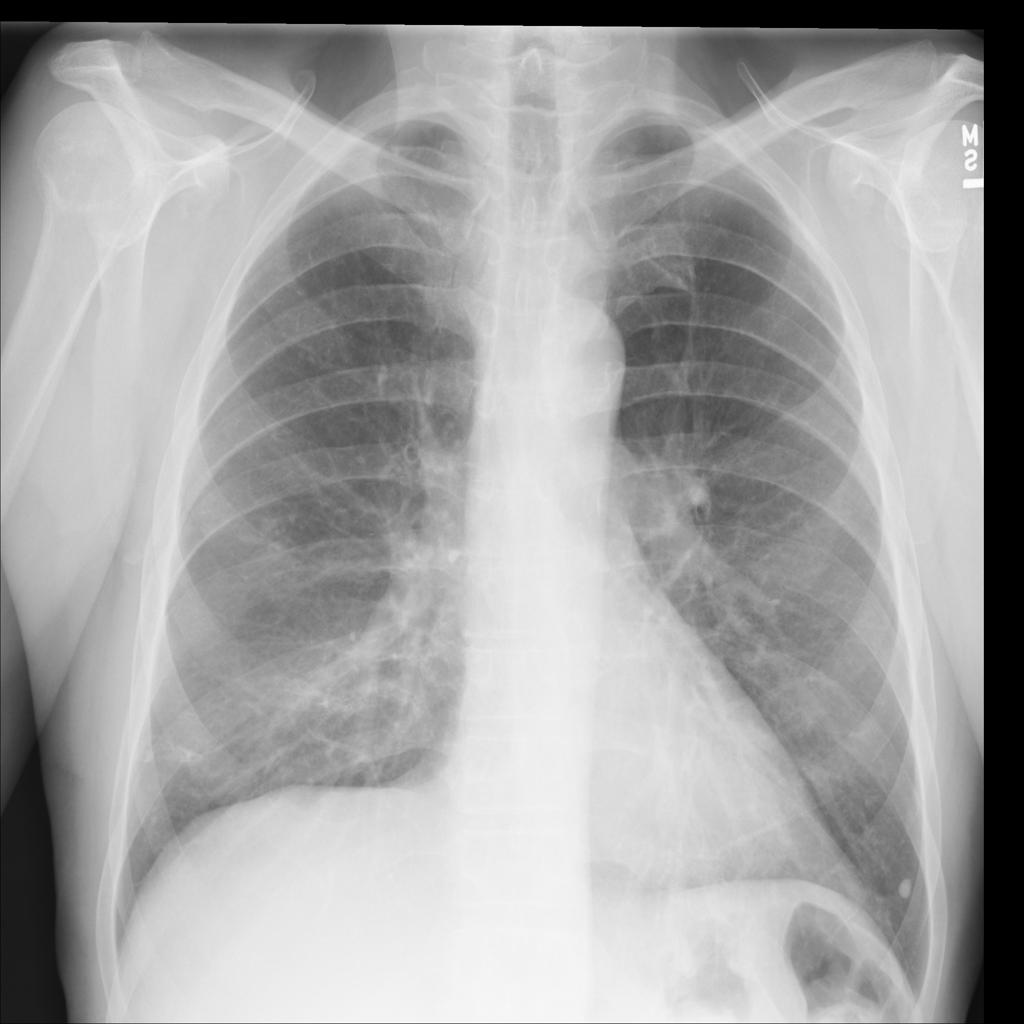nodule: (889, 866, 921, 908)
